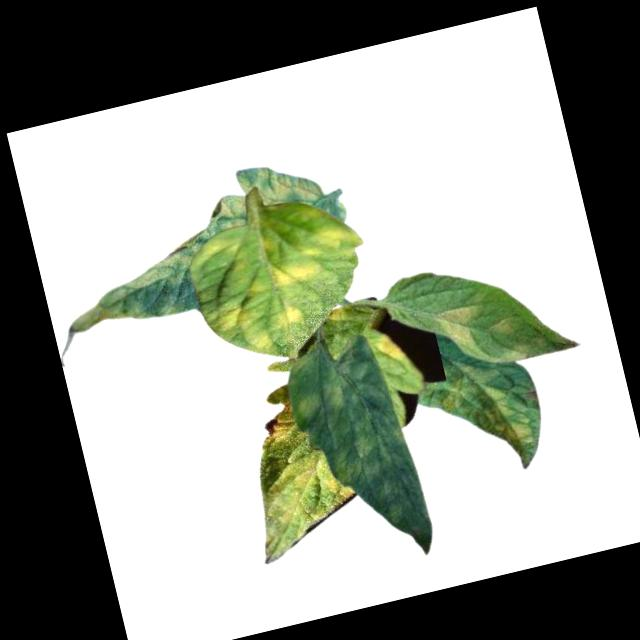Leaf_Mold: (180, 191, 383, 373), (285, 335, 437, 573), (240, 443, 367, 566), (47, 241, 199, 342), (429, 351, 537, 474), (233, 152, 327, 222), (252, 400, 300, 451), (435, 304, 478, 349), (372, 327, 408, 367), (483, 315, 518, 341)
